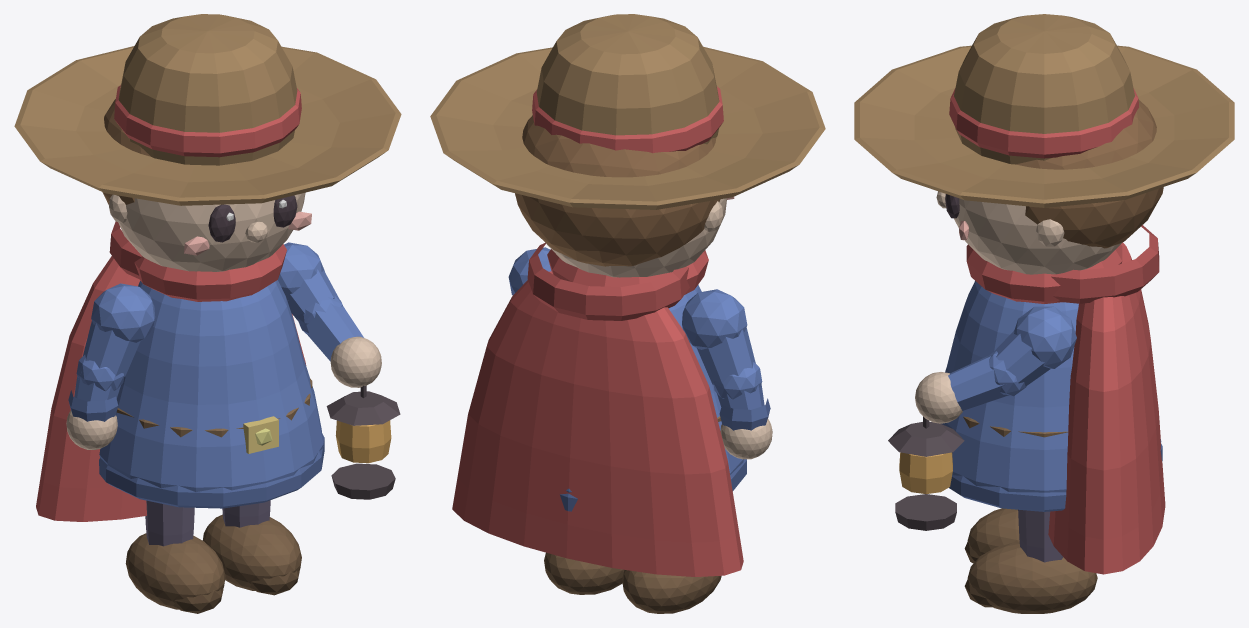
The model's file is hero_warden.glb.
The picture shows the model from 3 angles, left to right: view 1: azimuth 30°, elevation 25°; view 2: azimuth 150°, elevation 25°; view 3: azimuth 270°, elevation 25°; orthographic projection. The views are drawn at different scales.
Parts seen in each view (by area): view 1: hero_warden; view 2: hero_warden; view 3: hero_warden.
Boxes of the visible parts, <box> form: hero_warden: <box>14,14,401,613</box>; hero_warden: <box>430,14,825,613</box>; hero_warden: <box>854,14,1234,613</box>.
Size of the model in its own units: 1.32 by 2.07 by 1.29.
